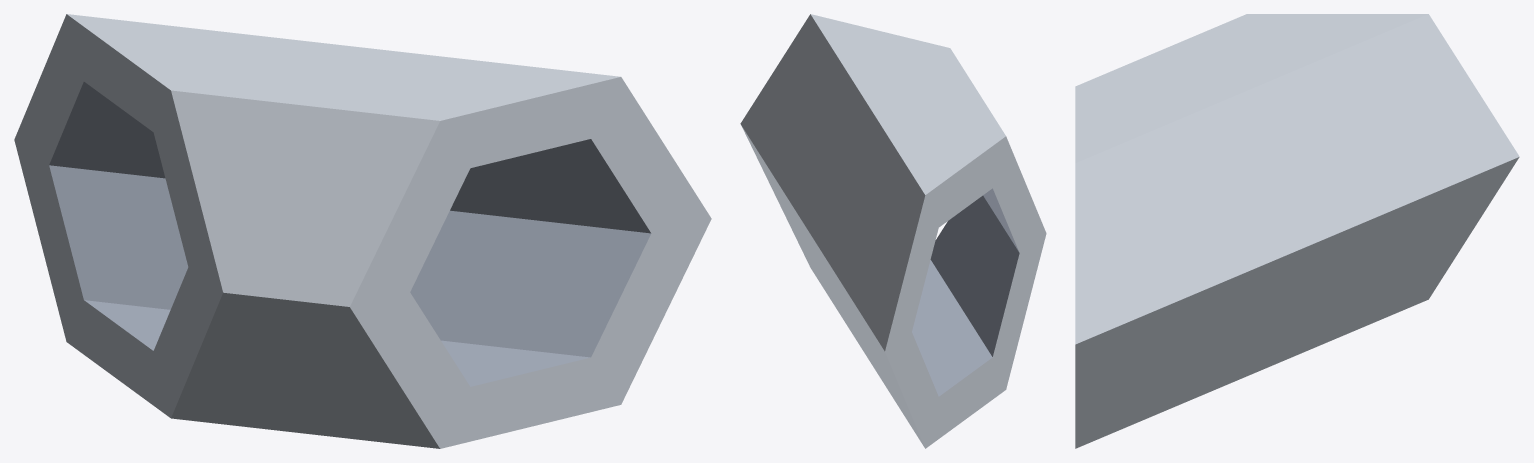
The model's file is pipe_cornerDiagonal.dae.
The picture shows the model from 3 angles, left to right: view 1: azimuth 30°, elevation 25°; view 2: azimuth 150°, elevation 25°; view 3: azimuth 270°, elevation 25°; orthographic projection. The views are drawn at different scales.
Parts seen in each view (by area): view 1: pipe_cornerDiagonal; view 2: pipe_cornerDiagonal; view 3: pipe_cornerDiagonal.
Part boxes in pixels (bbox=[...]): pipe_cornerDiagonal: bbox=[14, 14, 711, 448]; pipe_cornerDiagonal: bbox=[740, 14, 1046, 448]; pipe_cornerDiagonal: bbox=[1075, 14, 1519, 448].
Size of the model in its own units: 0.8464 by 0.6 by 0.8464.
